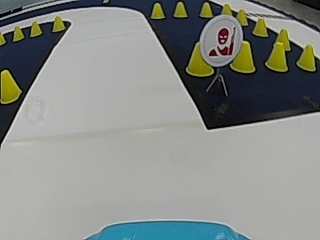evil: (199, 16, 242, 67)
